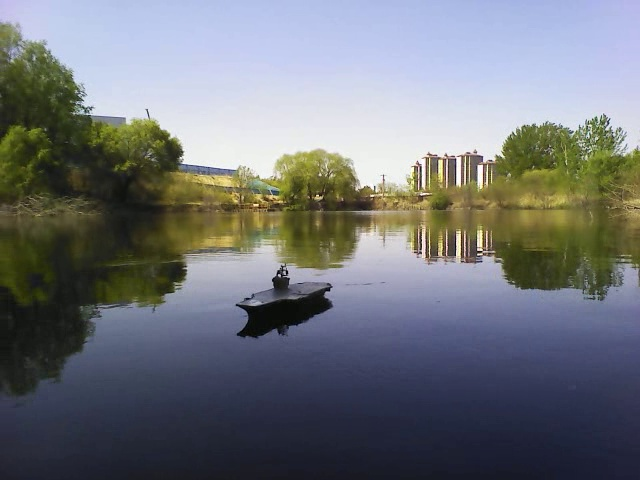aircraft_carrier: (233, 266, 333, 314)
